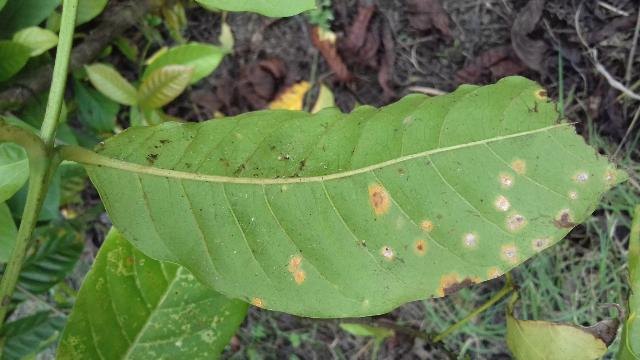rust_level_2: (72, 70, 640, 319)
